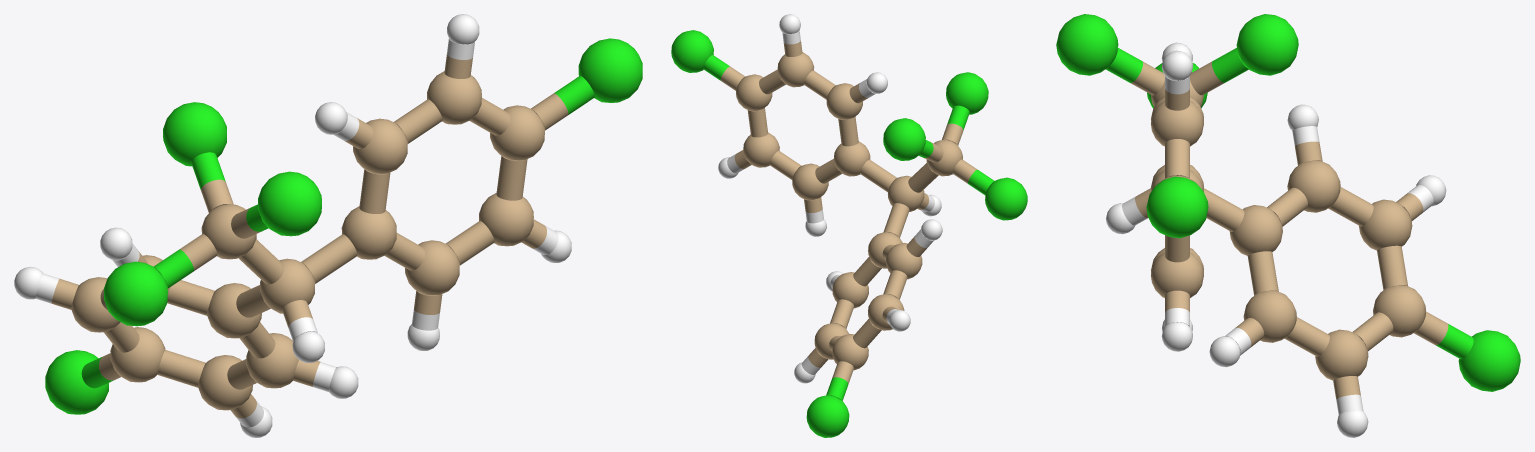
Rendered from DDT.dae.
3 renders of one model, left to right at view 1: azimuth 30°, elevation 25°; view 2: azimuth 150°, elevation 25°; view 3: azimuth 270°, elevation 25°, orthographic. The views are drawn at different scales.
Parts seen in each view (by area): view 1: subnode_25, subnode_27, subnode_7, subnode_26, subnode_22, subnode_0, subnode_4, subnode_2, subnode_3, subnode_1, subnode_5, subnode_16 (+32 smaller); view 2: subnode_27, subnode_22, subnode_26, subnode_7, subnode_25, subnode_2, subnode_0, subnode_4, subnode_3, subnode_5, subnode_1, subnode_14 (+28 smaller); view 3: subnode_25, subnode_7, subnode_26, subnode_22, subnode_13, subnode_17, subnode_15, subnode_16, subnode_14, subnode_12, subnode_2, subnode_0 (+25 smaller).
Boxes of the visible parts, <box> form: subnode_25: <box>258,171,321,236</box>; subnode_27: <box>104,261,167,326</box>; subnode_7: <box>578,38,642,102</box>; subnode_26: <box>163,102,226,166</box>; subnode_22: <box>45,350,108,414</box>; subnode_0: <box>427,71,481,124</box>; subnode_4: <box>341,206,396,259</box>; subnode_2: <box>479,193,533,246</box>; subnode_3: <box>405,240,459,295</box>; subnode_1: <box>490,105,544,160</box>; subnode_5: <box>353,118,407,173</box>; subnode_16: <box>110,327,165,382</box>; subnode_27: <box>985,177,1027,220</box>; subnode_22: <box>806,395,849,437</box>; subnode_26: <box>883,118,925,160</box>; subnode_7: <box>671,30,713,72</box>; subnode_25: <box>946,72,988,114</box>; subnode_2: <box>743,132,779,167</box>; subnode_0: <box>777,52,814,87</box>; subnode_4: <box>834,141,870,176</box>; subnode_3: <box>792,163,828,200</box>; subnode_5: <box>826,83,862,119</box>; subnode_1: <box>736,74,772,110</box>; subnode_14: <box>832,272,868,308</box>; subnode_25: <box>1056,14,1118,75</box>; subnode_7: <box>1146,176,1208,238</box>; subnode_26: <box>1236,14,1298,75</box>; subnode_22: <box>1458,330,1520,391</box>; subnode_13: <box>1229,205,1282,255</box>; subnode_17: <box>1359,199,1412,250</box>; subnode_15: <box>1315,329,1368,380</box>; subnode_16: <box>1373,285,1425,337</box>; subnode_14: <box>1243,291,1296,342</box>; subnode_12: <box>1287,160,1340,212</box>; subnode_2: <box>1151,252,1203,297</box>; subnode_0: <box>1151,101,1203,146</box>.
Size of the model in its own units: 9.28 by 7.73 by 7.4.
